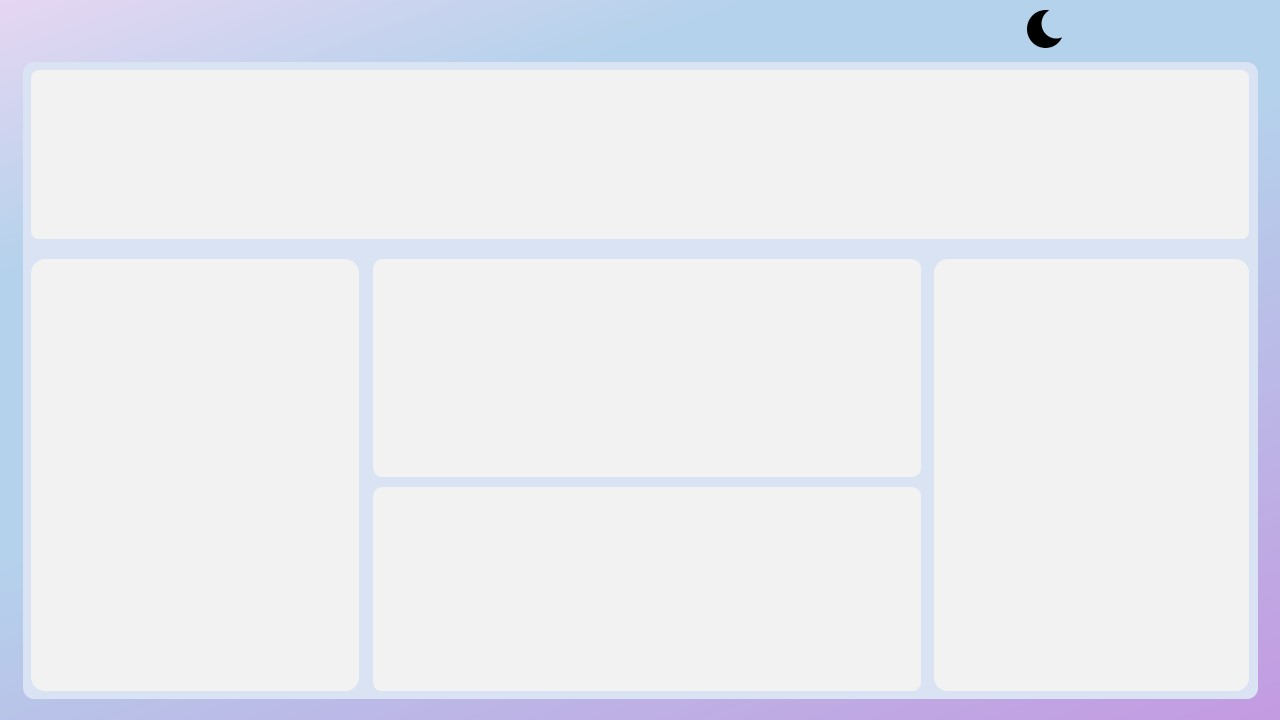

This screenshot's page, from the dashboard's own definition file:
{"tool":"powerbi","page":{"name":"Financials","canvas":[1280,720],"ordinal":0},"visuals":[{"type":"cardVisual","fields":{"Data":["DAX Calculation.Total Billing Amount","DAX Calculation.Total Medication Cost","DAX Calculation.Total Treatment Cost","DAX Calculation.Total Insurance Coveres","DAX Calculation.Out-of-Pocket","DAX Calculation.Total Room Charges"]},"box":[39.8,68.3,1201.8,165],"z":0},{"type":"actionButton","title":"Open","box":[636.3,8.7,141.4,44.7],"z":1000,"group":"g1"},{"type":"map","fields":{"Category":["cities.City"],"Size":["DAX Calculation.Total Billing Amount"]},"box":[42.9,340.9,306.8,340.9],"z":1000},{"type":"advancedSlicerVisual","fields":{"Values":["Patients Location Switch.Patients Location Switch"]},"box":[45.1,279.3,303.5,51.7],"z":2000},{"type":"clusteredColumnChart","fields":{"Category":["procedures.Procedure"],"Y":["DAX Calculation.Total Billing Amount"]},"box":[384.9,266.1,533.3,202.3],"z":3000},{"type":"hundredPercentStackedBarChart","fields":{"Y":["DAX Calculation.Total Billing Amount"],"Category":["diagnoses.Diagnosis"],"Series":["visits.Service Type"]},"box":[380.5,492.6,519,189.1],"z":4000},{"type":"clusteredBarChart","title":"Total Billing Amount by Department","fields":{"Y":["DAX Calculation.Blank Measures","DAX Calculation.Total Billing Amount"],"Category":["departments.Department"]},"box":[942.3,266.1,304.6,415.6],"z":5000},{"type":"textbox","box":[42.9,0,425,59.5],"z":6000},{"type":"group","id":"g1","title":"Slicers Btn","box":[636.3,8.7,141.4,44.7],"z":8000},{"type":"pageNavigator","box":[938.4,12,311.6,38.4],"z":9000}]}

Visuals, with their boxes in screenshot pixels (x1, y1, x2, y2), scaled from the page's 1280x720 canvas onto the 1280x720 screenshot:
cardVisual - DAX Calculation.Total Billing Amount x DAX Calculation.Total Medication Cost: [40, 68, 1242, 233]
"Open" actionButton: [636, 9, 778, 53]
map - cities.City x DAX Calculation.Total Billing Amount: [43, 341, 350, 682]
advancedSlicerVisual - Patients Location Switch.Patients Location Switch: [45, 279, 349, 331]
clusteredColumnChart - procedures.Procedure x DAX Calculation.Total Billing Amount: [385, 266, 918, 468]
hundredPercentStackedBarChart - DAX Calculation.Total Billing Amount x diagnoses.Diagnosis: [380, 493, 900, 682]
"Total Billing Amount by Department" clusteredBarChart: [942, 266, 1247, 682]
textbox: [43, 0, 468, 60]
"Slicers Btn" group: [636, 9, 778, 53]
pageNavigator: [938, 12, 1250, 50]
